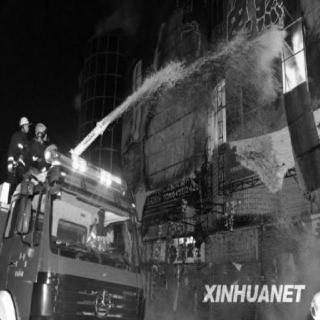Fire: (276, 26, 308, 92), (202, 80, 226, 161)
other: (143, 234, 201, 266), (269, 242, 299, 284), (204, 228, 254, 252), (18, 109, 45, 133), (177, 202, 197, 232)
